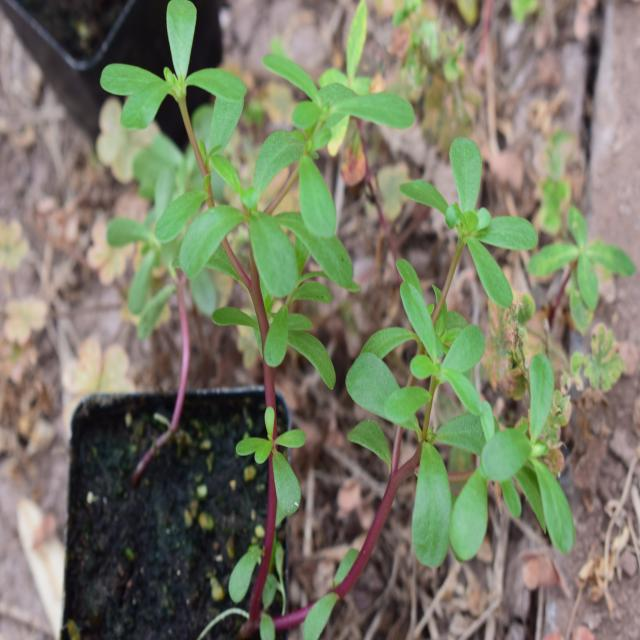purslane: (115, 11, 578, 630)
